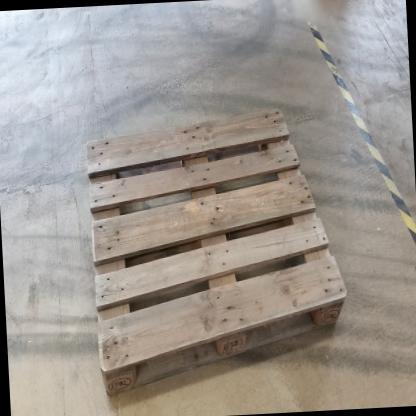BoxFace: (84, 99, 350, 404)
